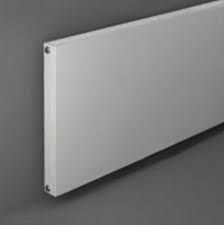Radiator: (42, 1, 224, 202)
